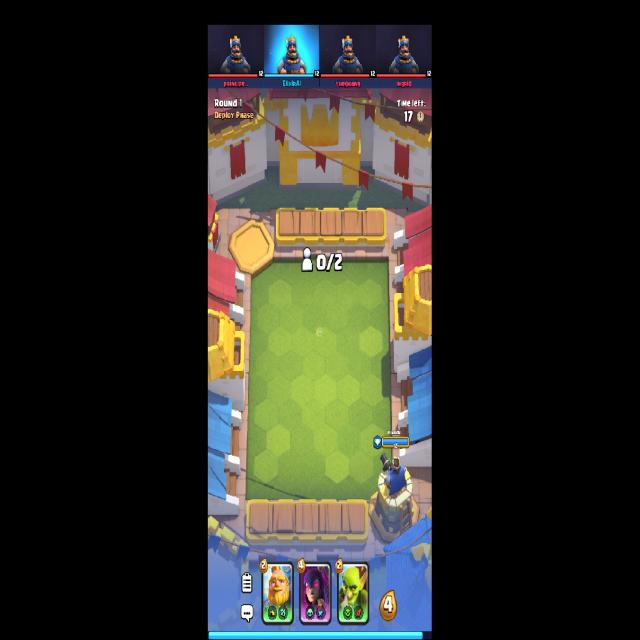card_goblin: (337, 560, 370, 626)
card_royal_giant: (261, 562, 294, 624)
card_witch: (298, 562, 332, 626)
